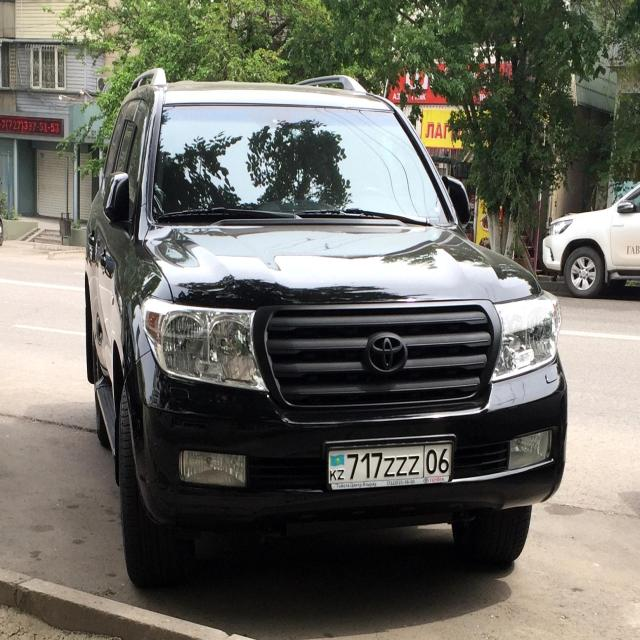car: (84, 66, 568, 590), (542, 182, 640, 298)
license: (326, 440, 453, 490)
